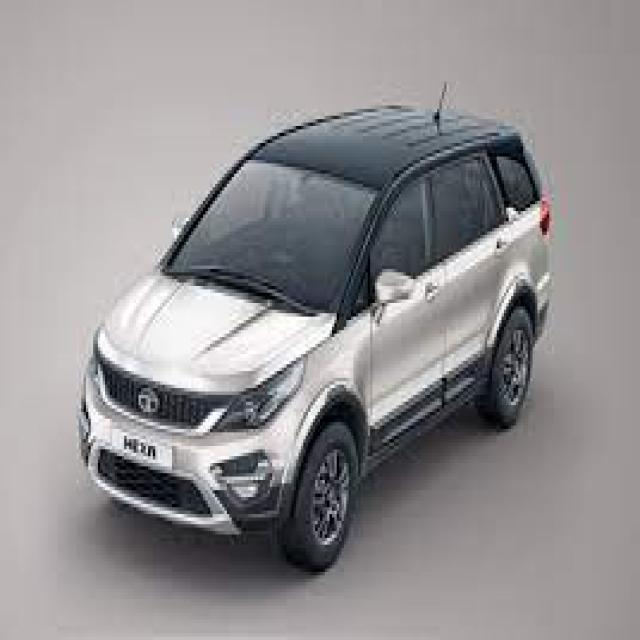Car: (74, 72, 565, 580)
